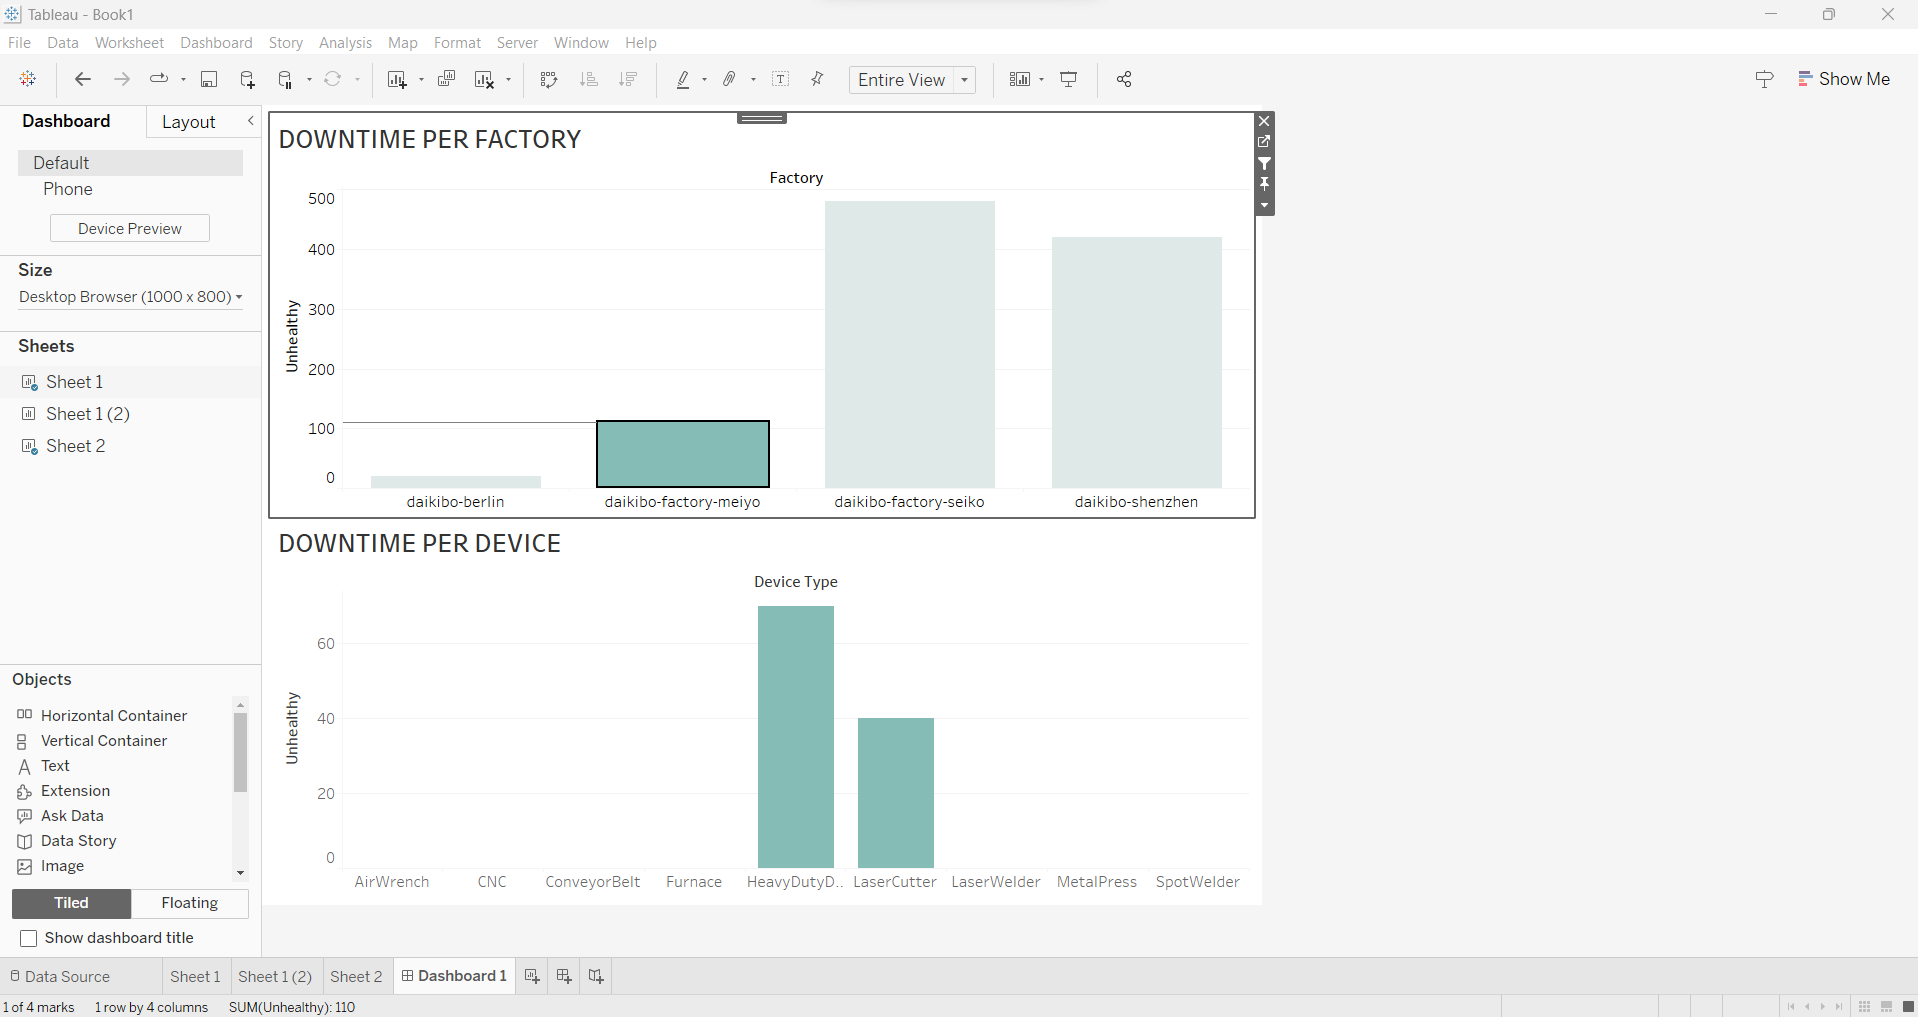

This screenshot's page, from the dashboard's own definition file:
{"tool":"tableau","page":{"name":"Dashboard 1","canvas":[1000,800],"ordinal":0},"visuals":[{"type":"worksheet","title":"Sheet 1","mark":"Automatic","rows":["Calculation_2538059912631091200"],"cols":["factory"],"box":[8,8,984,404]},{"type":"worksheet","title":"Sheet 2","mark":"Automatic","rows":["Calculation_2538059912631091200"],"cols":["deviceType"],"box":[8,412,984,380]}]}

Visuals, with their boxes on the page's 1000x800 design canvas (x1, y1, x2, y2). These are canvas units, not pixel positions in the 1918x1017 screenshot, which may show the page scaled, cropped or inside an application window:
"Sheet 1" worksheet: bbox=(8, 8, 992, 412)
"Sheet 2" worksheet: bbox=(8, 412, 992, 792)
